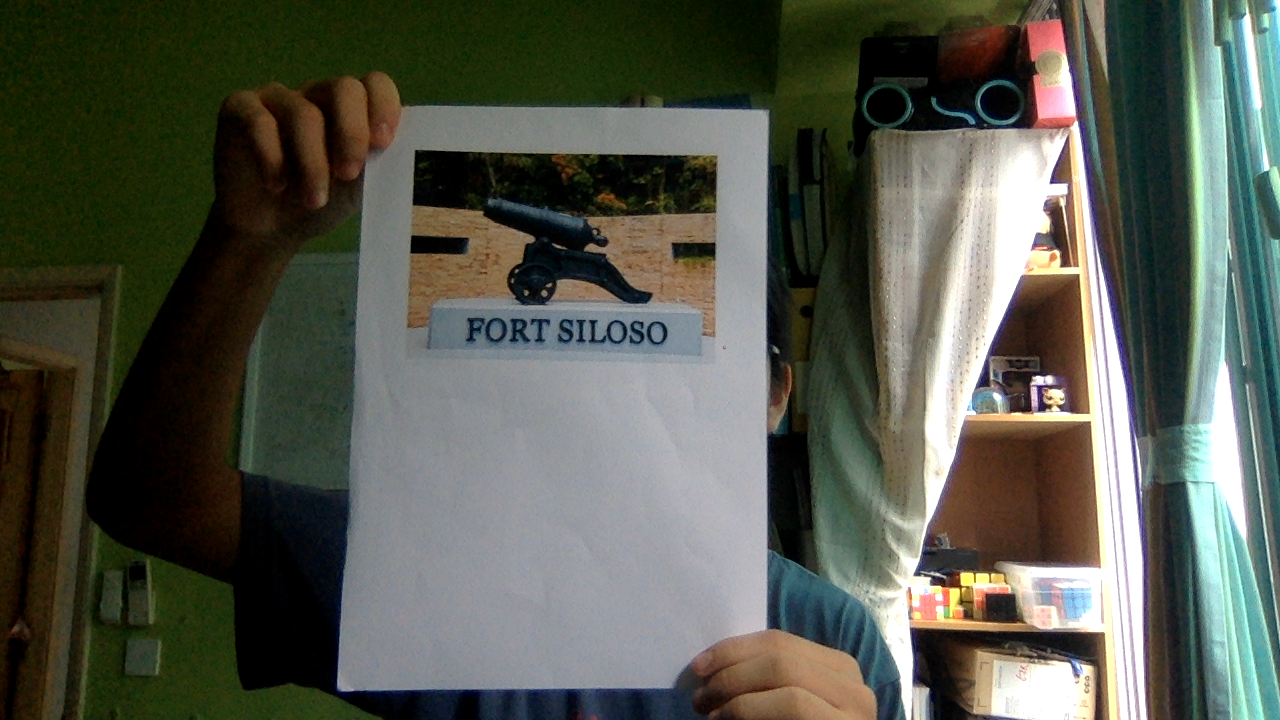siloso: (409, 150, 725, 367)
